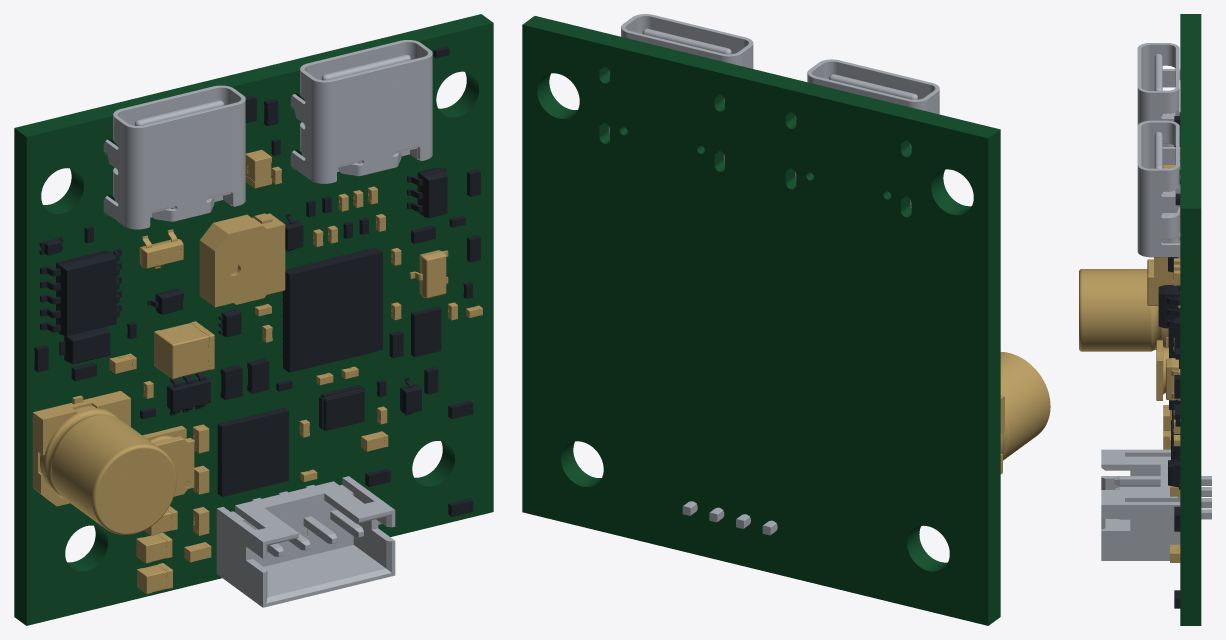
Rendered from controller.glb.
3 views of the same model, side by side, from view 1: azimuth 30°, elevation 25°; view 2: azimuth 150°, elevation 25°; view 3: azimuth 270°, elevation 25° (orthographic). The views are drawn at different scales.
Parts seen in each view (by area): view 1: PCB, J_MOTOR, J_PD, J_DATA, C_BULK, U_MCU, BZ_ALARM, U_PD, U_DRV, C_BUCK_IN, L_BUCK, Y_MCU (+13 smaller); view 2: PCB, C_BULK, J_PD, J_DATA, J_MOTOR; view 3: PCB, J_MOTOR, C_BULK, J_DATA, J_PD, U_ESD, L_BUCK, BZ_ALARM, Q_DATA, C_BUCK_IN, U_MCU, D_DATA (+1 smaller).
Part boxes in pixels (<box>): PCB: <box>14,14,493,625</box>; J_MOTOR: <box>216,476,395,607</box>; J_PD: <box>103,85,245,229</box>; J_DATA: <box>290,40,432,183</box>; C_BULK: <box>32,391,176,534</box>; U_MCU: <box>282,247,382,372</box>; BZ_ALARM: <box>199,213,285,307</box>; U_PD: <box>40,248,121,336</box>; U_DRV: <box>217,407,288,496</box>; C_BUCK_IN: <box>154,321,214,379</box>; L_BUCK: <box>142,425,194,496</box>; Y_MCU: <box>319,385,364,431</box>; PCB: <box>522,16,1000,625</box>; C_BULK: <box>1000,352,1050,474</box>; J_PD: <box>795,59,939,207</box>; J_DATA: <box>608,14,753,161</box>; J_MOTOR: <box>682,501,777,535</box>; PCB: <box>1180,14,1201,625</box>; J_MOTOR: <box>1101,449,1211,560</box>; C_BULK: <box>1079,269,1168,351</box>; J_DATA: <box>1137,120,1180,258</box>; J_PD: <box>1137,43,1180,178</box>; U_ESD: <box>1158,285,1180,328</box>; L_BUCK: <box>1156,340,1168,400</box>; BZ_ALARM: <box>1154,257,1173,287</box>; Q_DATA: <box>1166,358,1180,400</box>; C_BUCK_IN: <box>1147,259,1158,305</box>; U_MCU: <box>1169,316,1180,409</box>; D_DATA: <box>1168,456,1180,489</box>.
Bounding box in the file's own units: 35 × 35.4 × 10.1.
